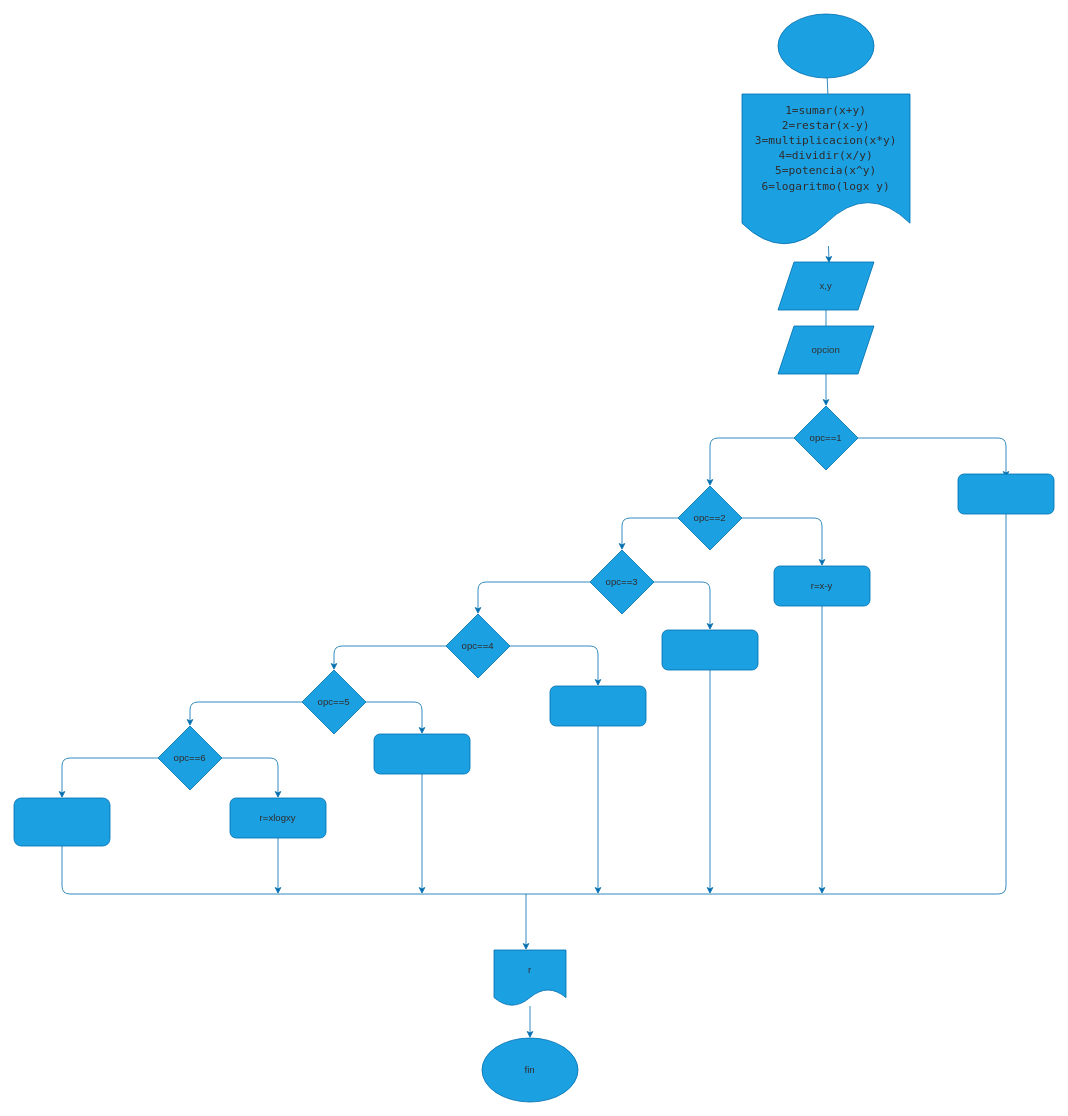
Image size: 1068x1116. Some labels were removed from this diagram. Each missing label, with the centre of its shape:
inicio: the point at 825,45
r=no valido: the point at 61,821
r=x ^ y: the point at 421,753
r=x*y: the point at 709,649
r=x+y: the point at 1005,493
r=x/y: the point at 597,705
